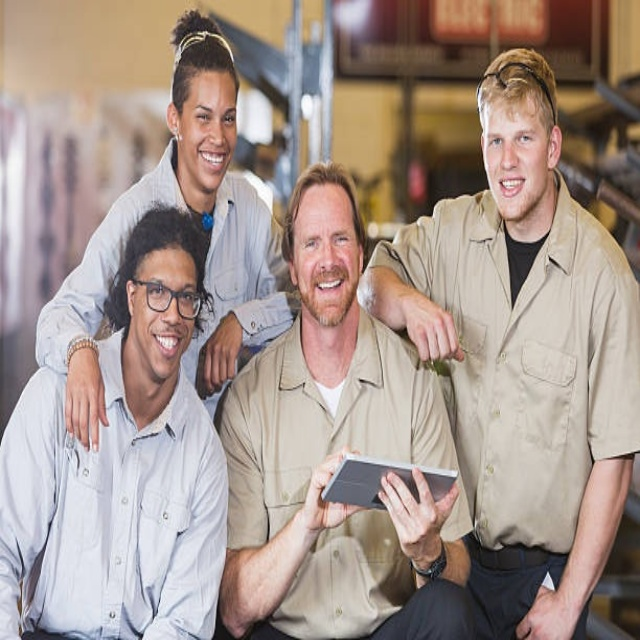Gafas: (131, 276, 198, 320)
Sin_gafas: (189, 97, 237, 135), (299, 221, 351, 256), (482, 124, 536, 157)
Sin_guantes: (379, 462, 458, 554), (301, 444, 367, 533), (401, 290, 468, 369), (62, 358, 114, 450), (197, 311, 245, 395)
Sin_mascara: (148, 326, 180, 378), (495, 174, 530, 213), (312, 271, 345, 311)
